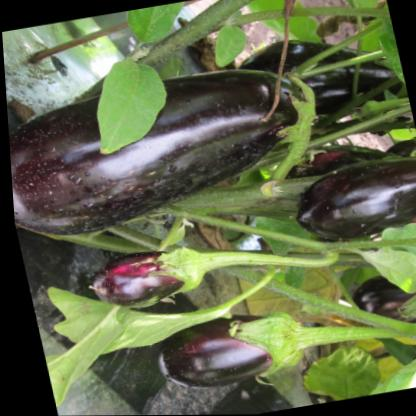eggplant: (2, 38, 343, 252)
